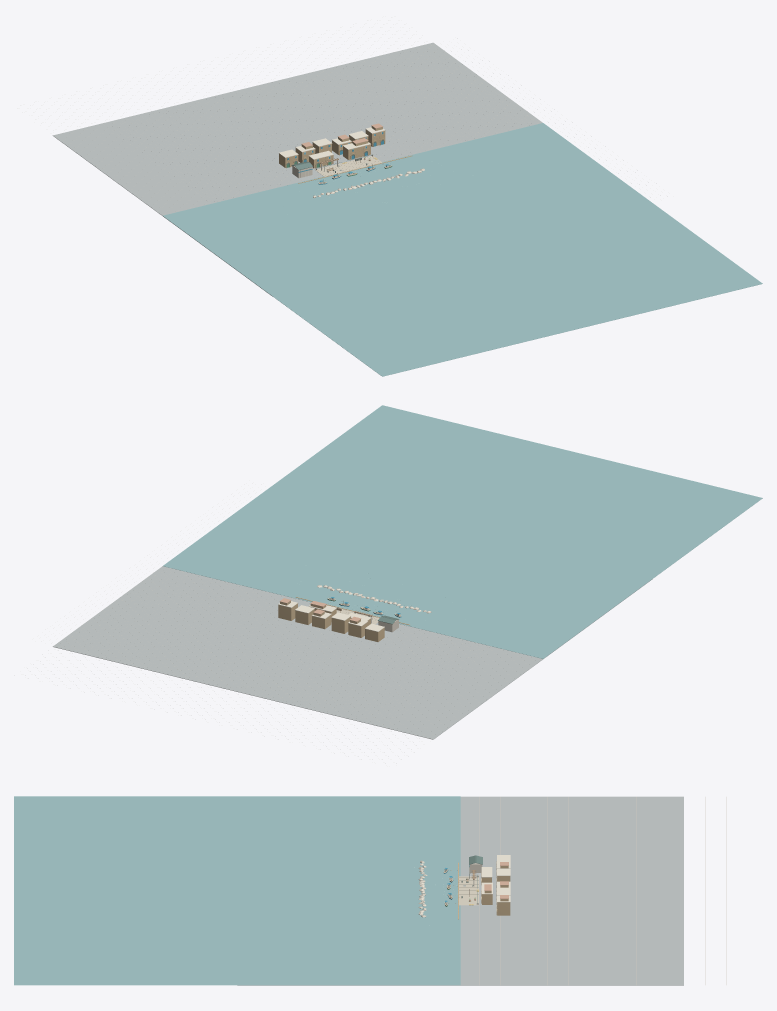
The model's file is room.glb.
3 views of the same model, one above another, from view 1: azimuth 30°, elevation 25°; view 2: azimuth 150°, elevation 25°; view 3: azimuth 270°, elevation 25° (orthographic).
Visible parts, largest first — view 1: continuing sea, continuous surrounding ground, port stone storehouse, stone roof coping, paving course; view 2: continuing sea, continuous surrounding ground, port stone storehouse, stone roof coping, paving course; view 3: continuing sea, continuous surrounding ground, paving course, stone roof coping, port stone storehouse, ground.
Boxes of the visible parts, x1,y1,x2,y2 form: continuing sea: (163, 123, 762, 376); continuous surrounding ground: (52, 42, 542, 296); port stone storehouse: (279, 126, 412, 183); stone roof coping: (279, 127, 391, 183); paving course: (130, 44, 527, 198); continuing sea: (163, 405, 762, 658); continuous surrounding ground: (53, 566, 652, 739); port stone storehouse: (278, 597, 409, 641); stone roof coping: (278, 598, 401, 631); paving course: (58, 572, 474, 727); continuing sea: (14, 796, 460, 985); continuous surrounding ground: (237, 796, 683, 985); paving course: (418, 797, 726, 984); stone roof coping: (443, 855, 510, 905); port stone storehouse: (458, 861, 510, 919); ground: (459, 876, 478, 905).
Bounding box in the file's own units: 144 × 6.28 × 228.
